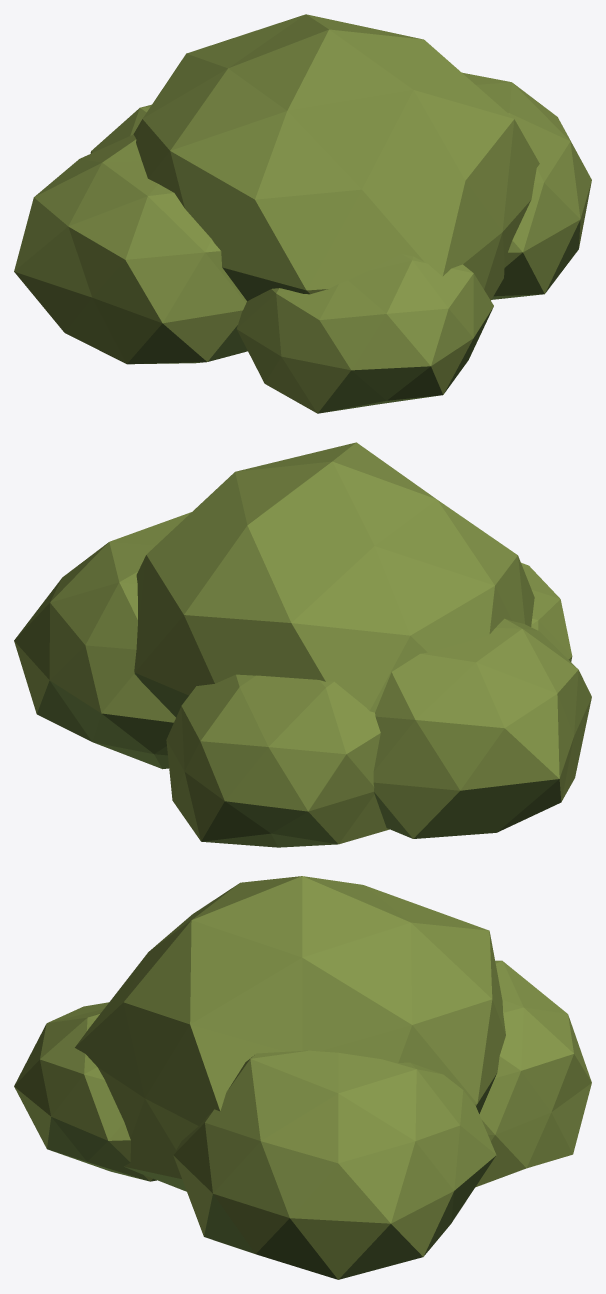
File: bush_a.glb
3 renders of one model, top to bottom at view 1: azimuth 30°, elevation 25°; view 2: azimuth 150°, elevation 25°; view 3: azimuth 270°, elevation 25°, orthographic. The views are drawn at different scales.
Parts seen in each view (by area): view 1: bush_a; view 2: bush_a; view 3: bush_a.
Part boxes in pixels (x1,y1,x2,y2): bush_a: (14, 14, 591, 413); bush_a: (14, 442, 591, 847); bush_a: (14, 876, 591, 1279).
Bounding box in the file's own units: 0.879 × 0.4462 × 0.8007.
